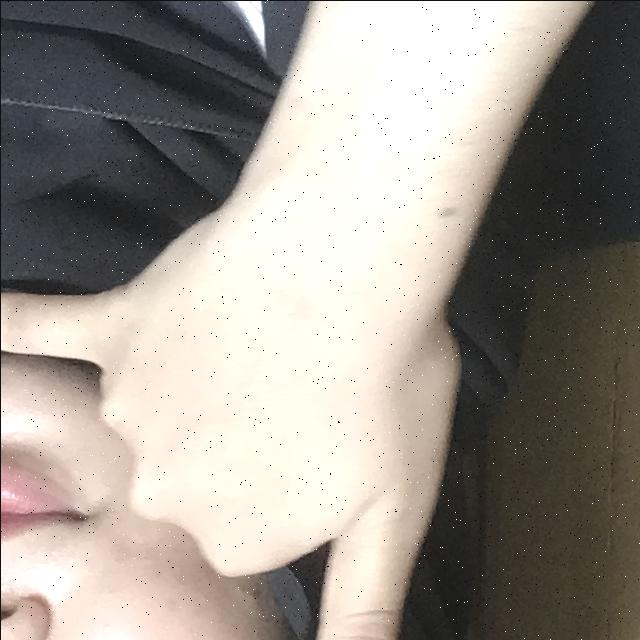telpon: (0, 144, 570, 640)
